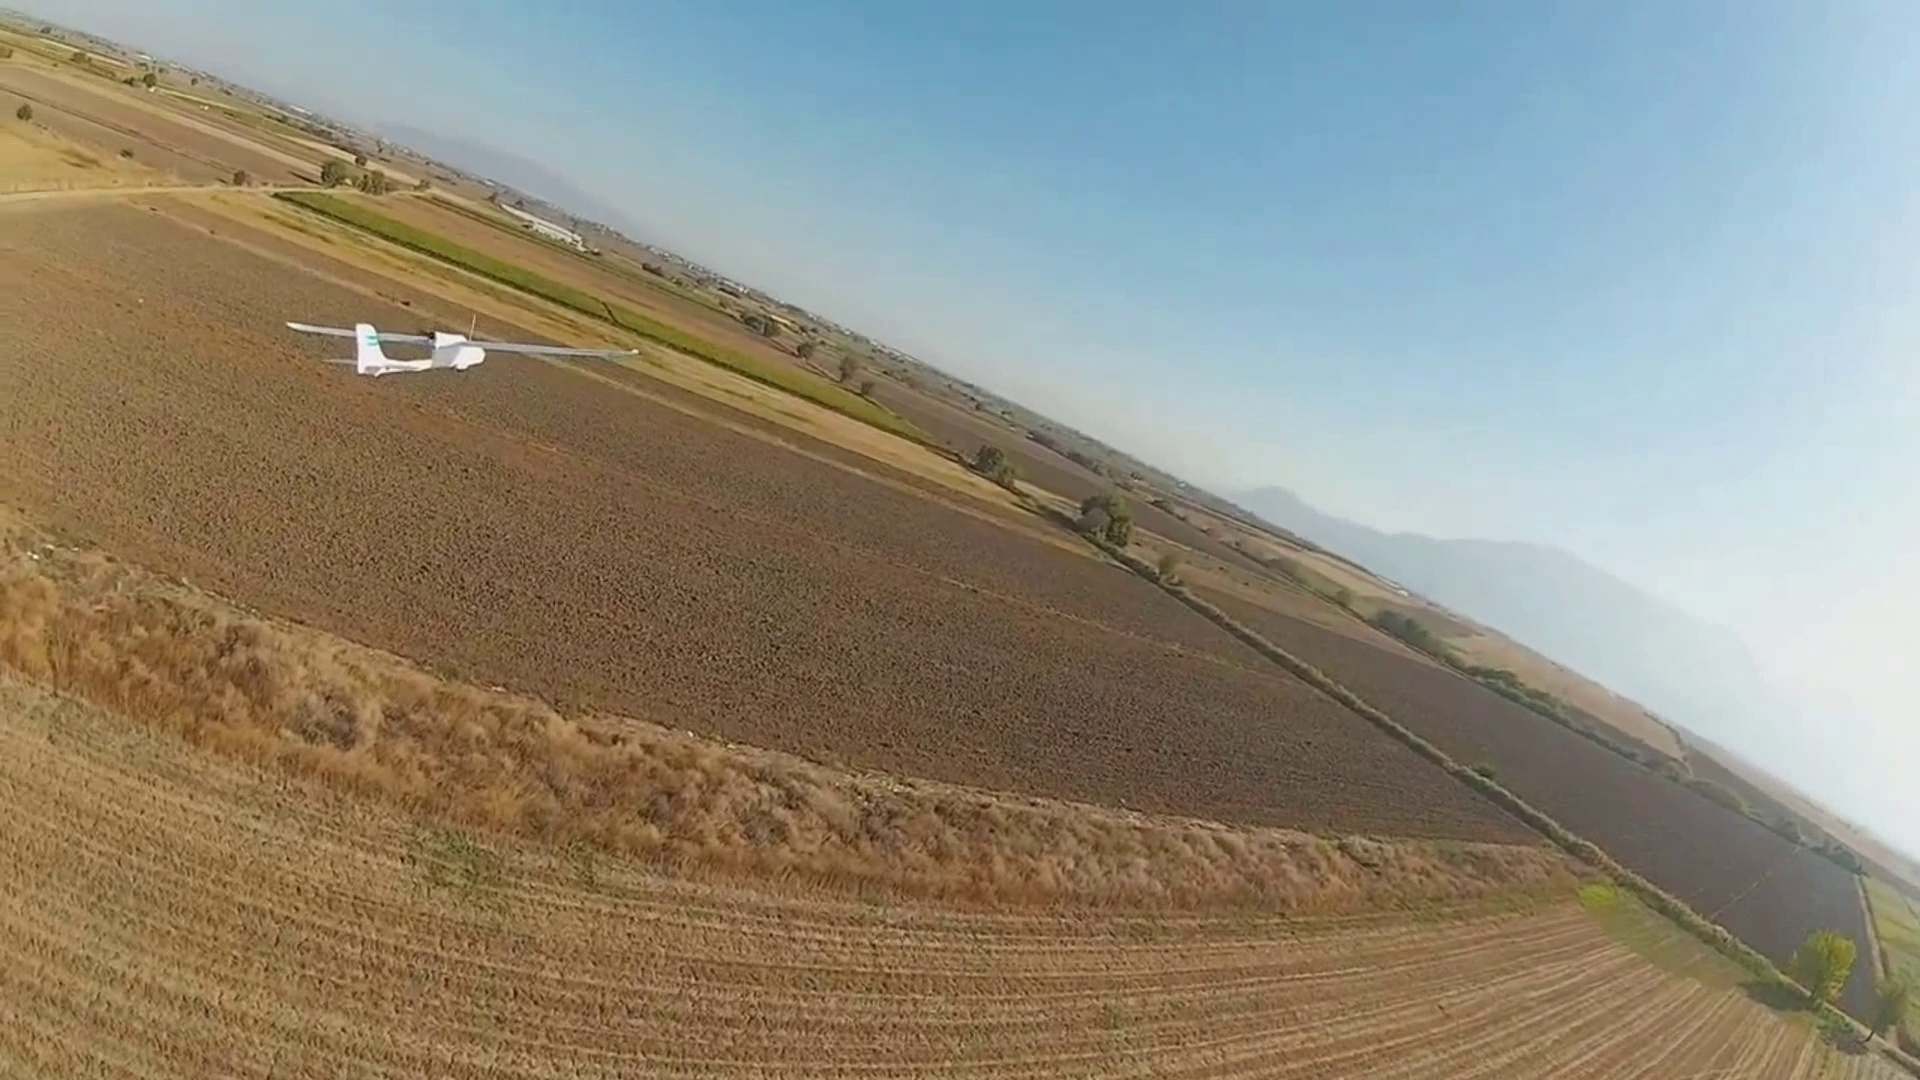airplane: (287, 320, 484, 377)
